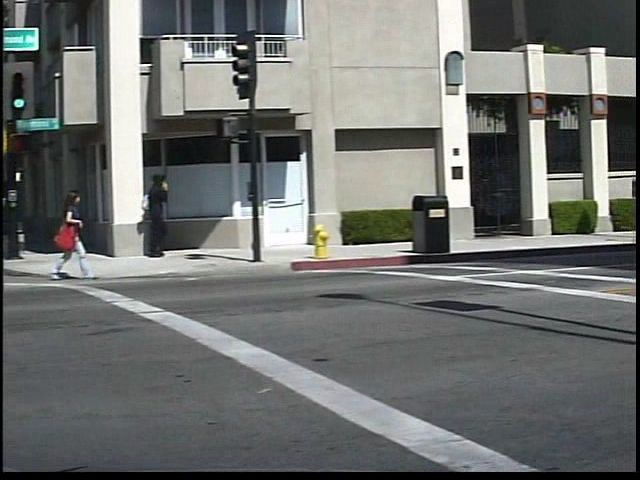person: (49, 184, 100, 288), (140, 172, 187, 262)
